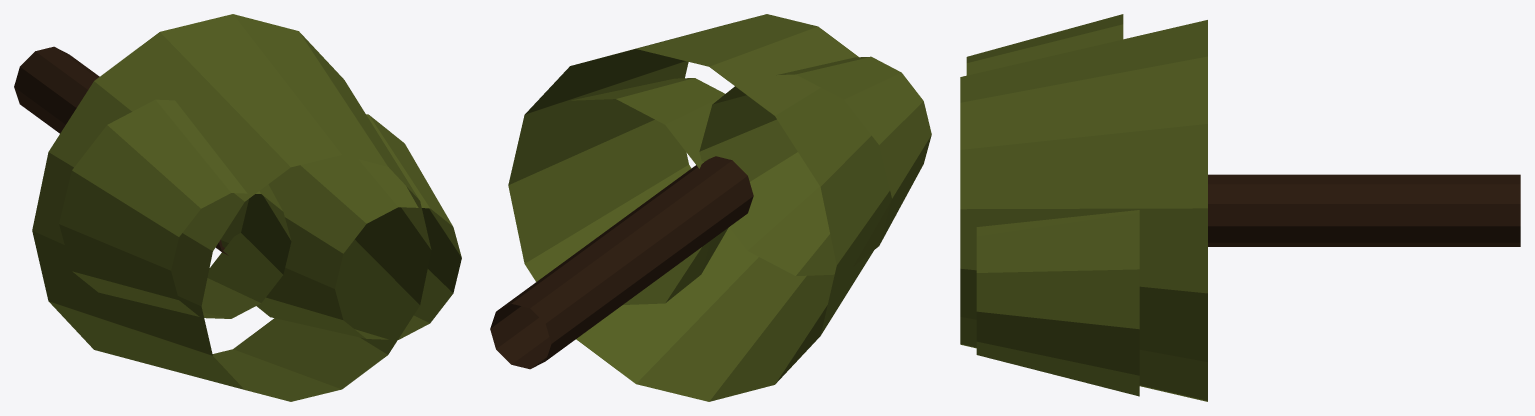
The model's file is SM_CommonGoldenTree.obj.
3 renders of one model, left to right at view 1: azimuth 30°, elevation 25°; view 2: azimuth 150°, elevation 25°; view 3: azimuth 270°, elevation 25°, orthographic. The views are drawn at different scales.
Visible parts, largest first — view 1: SM_CommonGoldenTree; view 2: SM_CommonGoldenTree; view 3: SM_CommonGoldenTree.
Part boxes in pixels (bbox=[...]): SM_CommonGoldenTree: bbox=[14, 14, 461, 401]; SM_CommonGoldenTree: bbox=[490, 14, 931, 401]; SM_CommonGoldenTree: bbox=[960, 14, 1520, 401].
Bounding box in the file's own units: 335 × 292 × 430.
